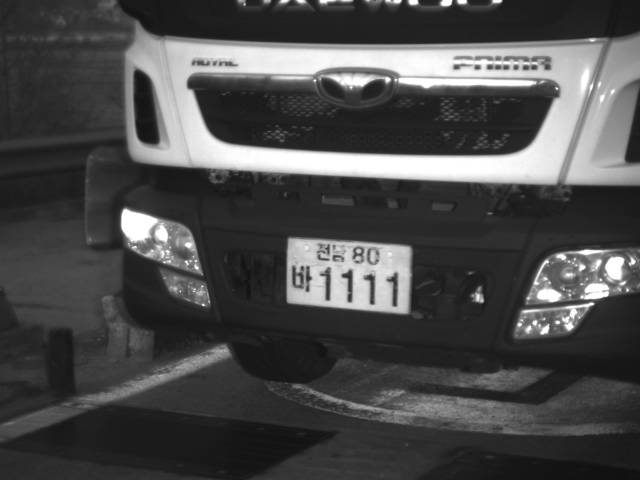car: (115, 1, 639, 386)
plate: (284, 234, 415, 318)
